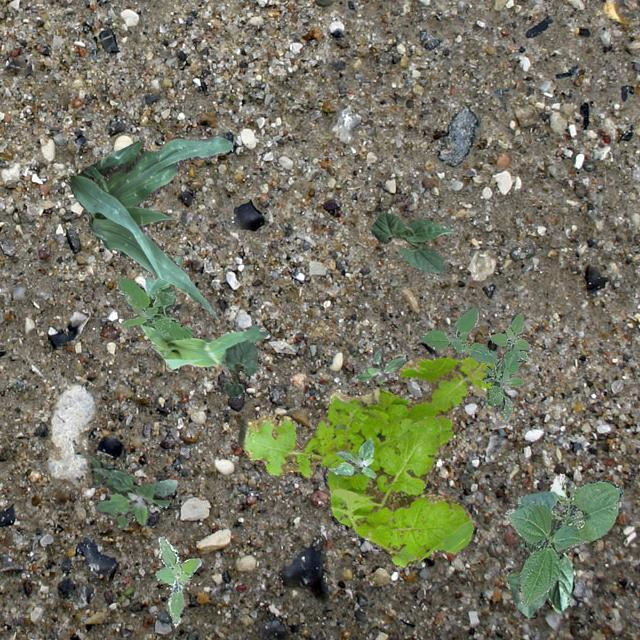crop: (68, 134, 232, 320), (504, 478, 622, 606), (139, 254, 267, 368), (524, 472, 574, 612), (369, 212, 452, 272), (505, 534, 547, 616), (220, 339, 256, 396)
weed: (236, 357, 494, 566), (418, 304, 528, 422), (88, 456, 176, 528), (116, 276, 190, 338), (154, 536, 200, 626), (328, 437, 374, 478), (355, 348, 403, 382)
